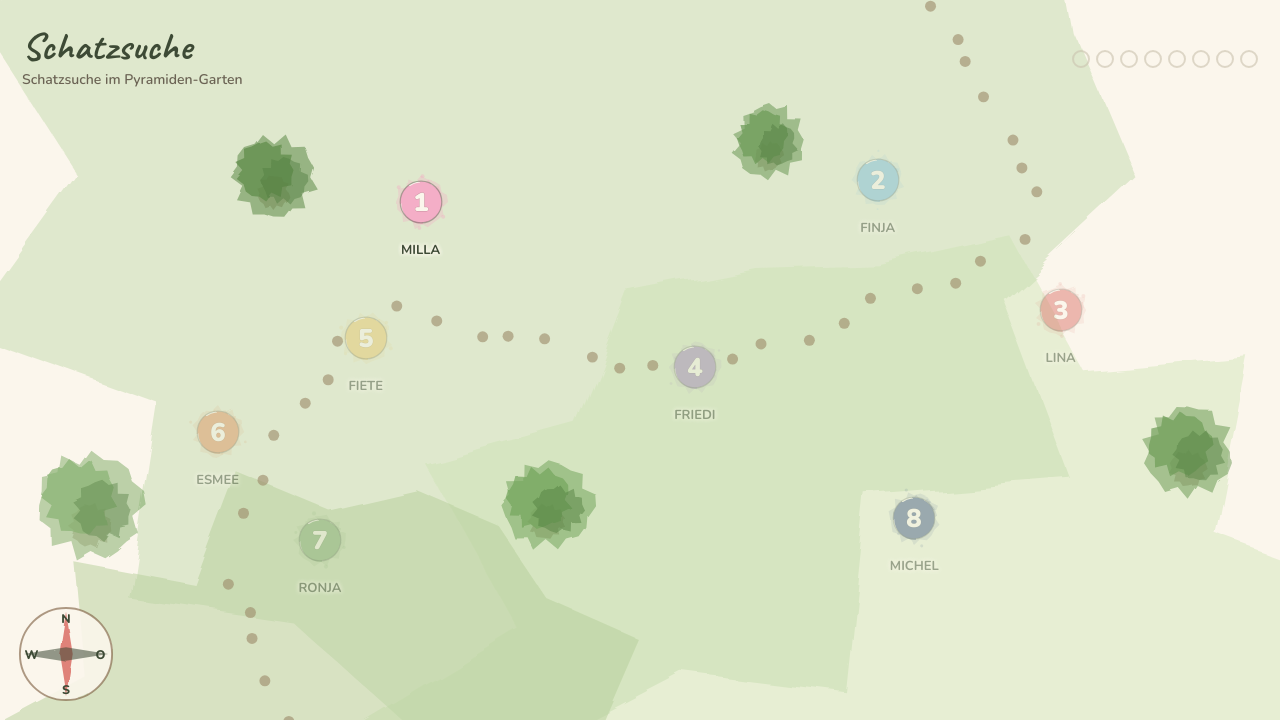
Scenario: MapScreen › closes the modal without solving when the close button is tapped
The width and height of the screenshot is (1280, 720).
Click the button with test id "station-marker-1". click: [421, 202]
box: [381, 162, 461, 242]
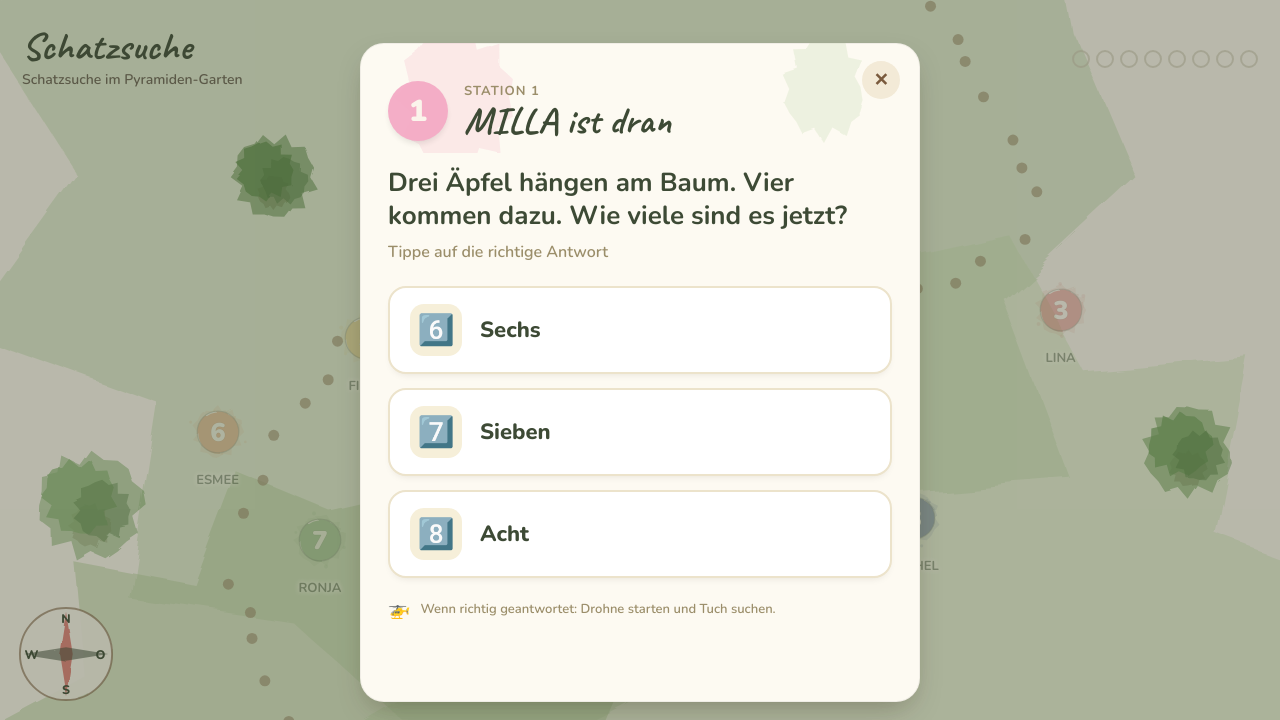
Click the button named "schließen". click: [881, 80]
box: [862, 61, 900, 99]
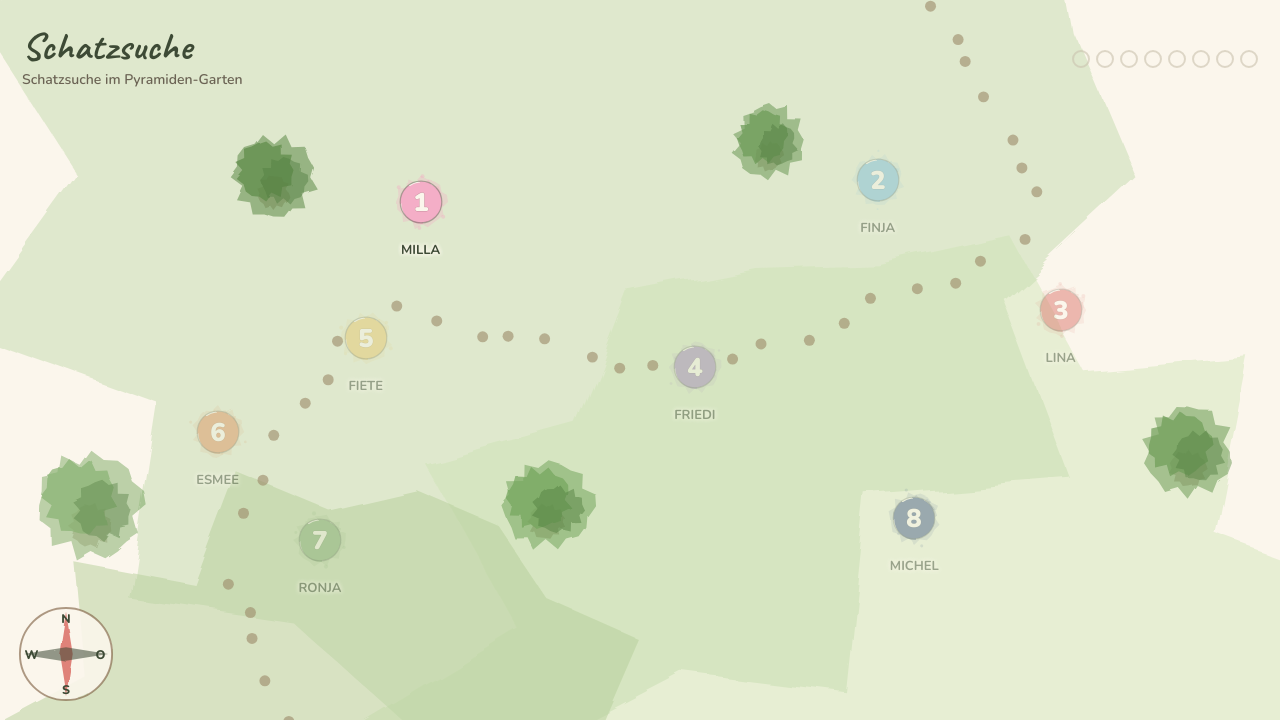
Expected: the dialog is gone
